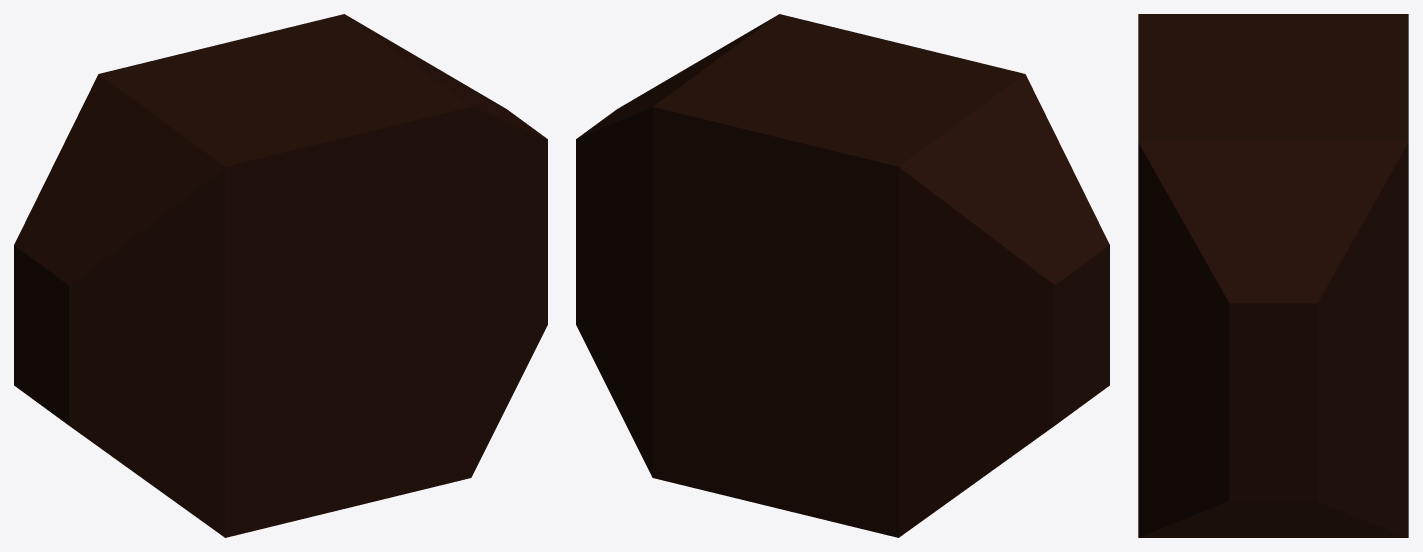
Rendered from raisin.obj.
The picture shows the model from 3 angles, left to right: view 1: azimuth 30°, elevation 25°; view 2: azimuth 150°, elevation 25°; view 3: azimuth 270°, elevation 25°; orthographic projection. The views are drawn at different scales.
Visible parts, largest first — view 1: Cube.001; view 2: Cube.001; view 3: Cube.001.
Part boxes in pixels (x1,y1,x2,y2): Cube.001: [14, 14, 547, 537]; Cube.001: [576, 14, 1109, 537]; Cube.001: [1138, 14, 1408, 537].
Size of the model in its own units: 0.0128 by 0.00933 by 0.00578.
